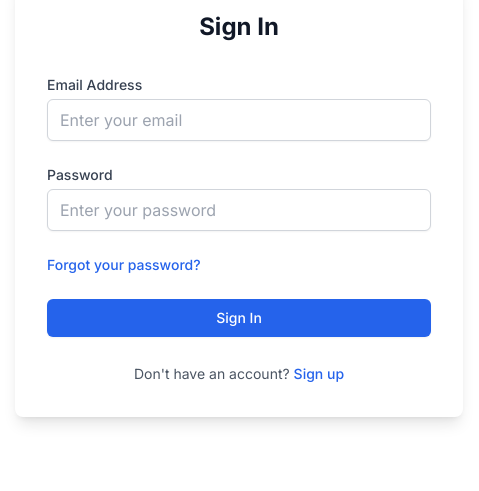
Scenario: LoginForm › clears field errors when user starts typing
The image size is (479, 491).
Note: Trigger validation error
Submit the form with test id "login-form", box left=47, top=75, right=431, bottom=385
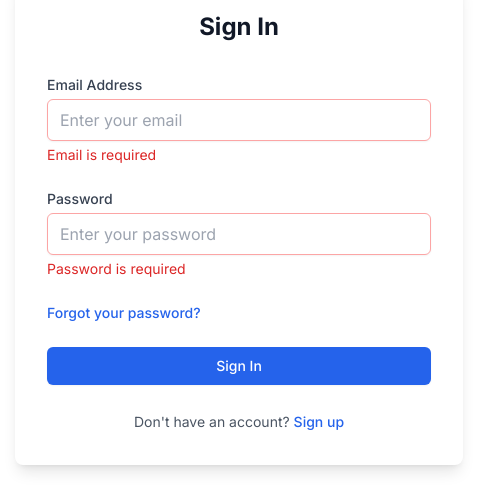
Result: the text "Email is required" is shown at left=47, top=146, right=156, bottom=163
Note: Start typing to clear error
Type "test" into the field labelled "Email Address".
click(239, 120); type("test")  # box left=47, top=99, right=431, bottom=141
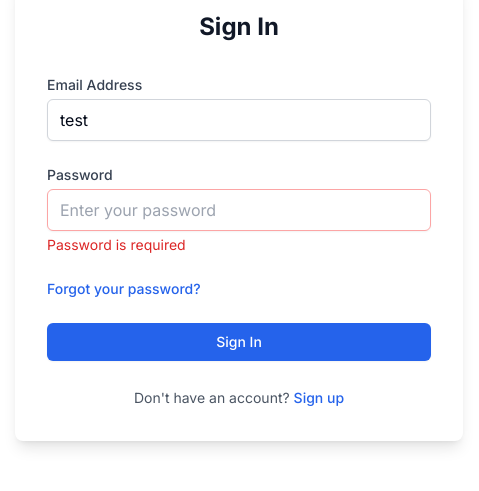
Result: the text "Email is required" is gone
